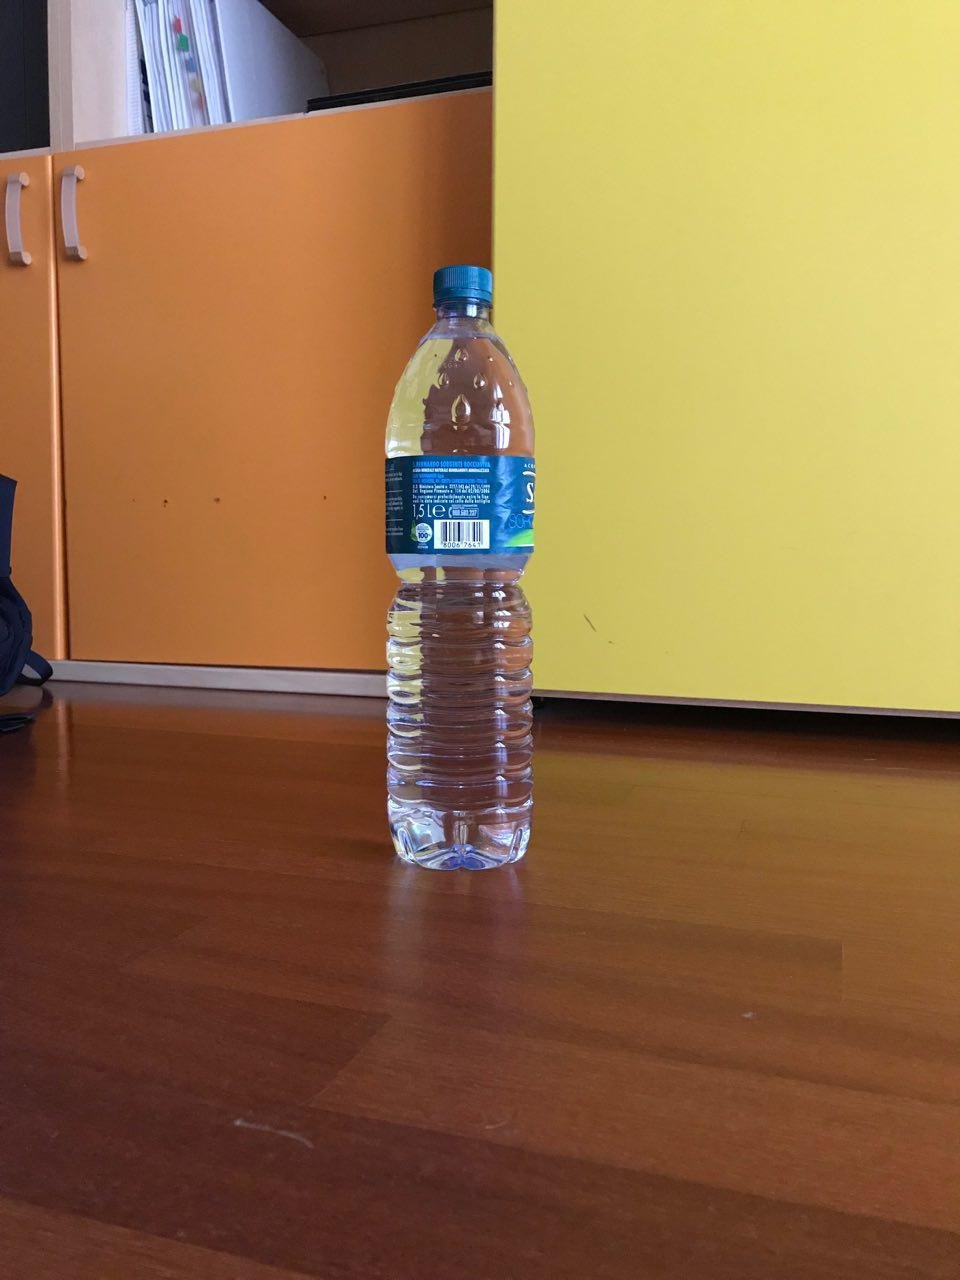san_bernardo: (382, 262, 537, 873)
